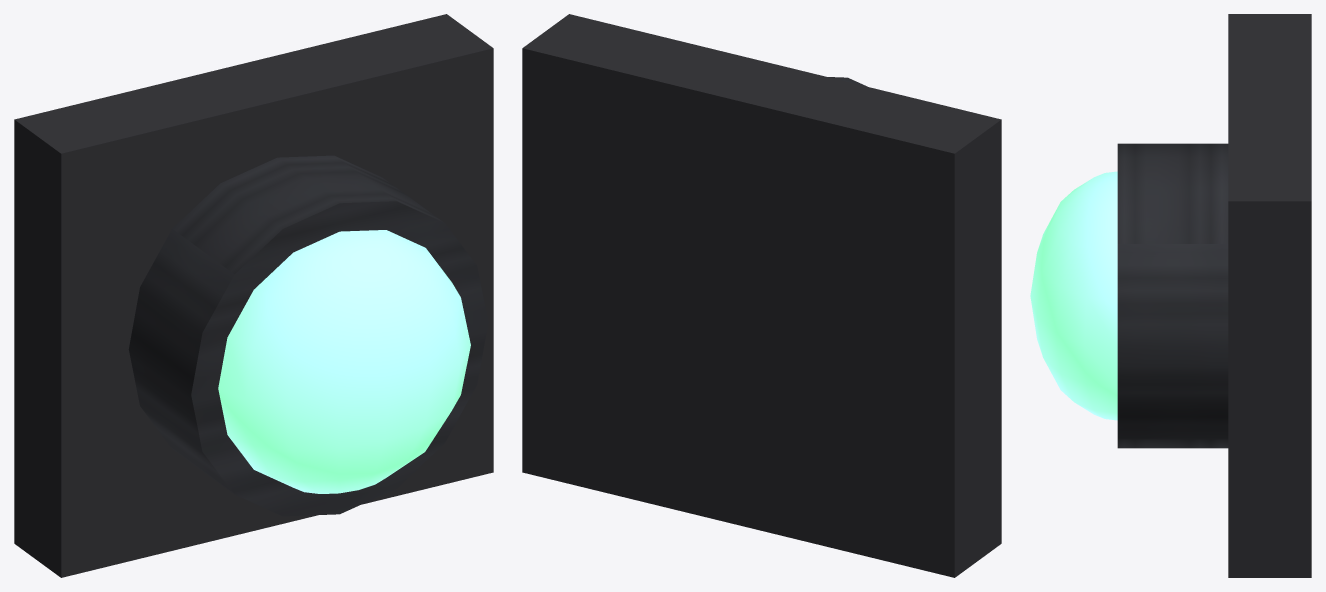
The model's file is SignalLamp_Green.fbx.
3 renders of one model, left to right at view 1: azimuth 30°, elevation 25°; view 2: azimuth 150°, elevation 25°; view 3: azimuth 270°, elevation 25°, orthographic. The views are drawn at different scales.
Parts seen in each view (by area): view 1: SignalLamp_Green; view 2: SignalLamp_Green; view 3: SignalLamp_Green.
Boxes of the visible parts, left/top/right/bottom form: SignalLamp_Green: left=14, top=14, right=493, bottom=577; SignalLamp_Green: left=522, top=14, right=1001, bottom=577; SignalLamp_Green: left=1030, top=14, right=1311, bottom=577.
Bounding box in the file's own units: 0.16 × 0.15 × 0.1015.
Materials: 3 (1 with a texture image).
